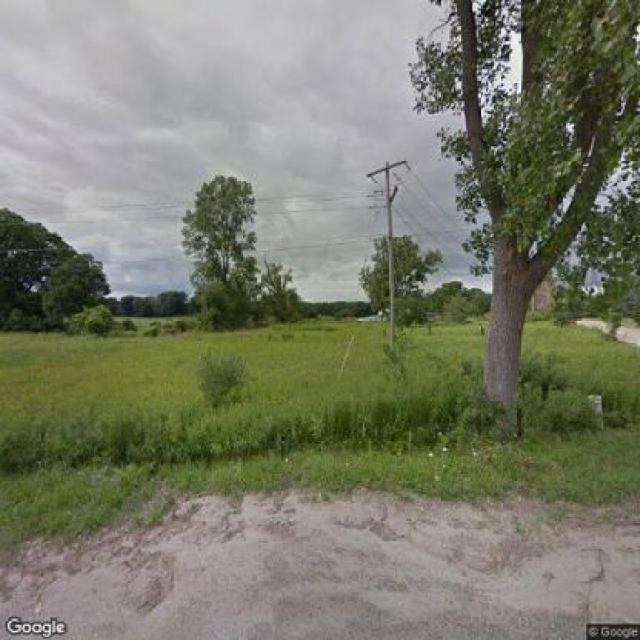pole: (358, 152, 416, 338)
